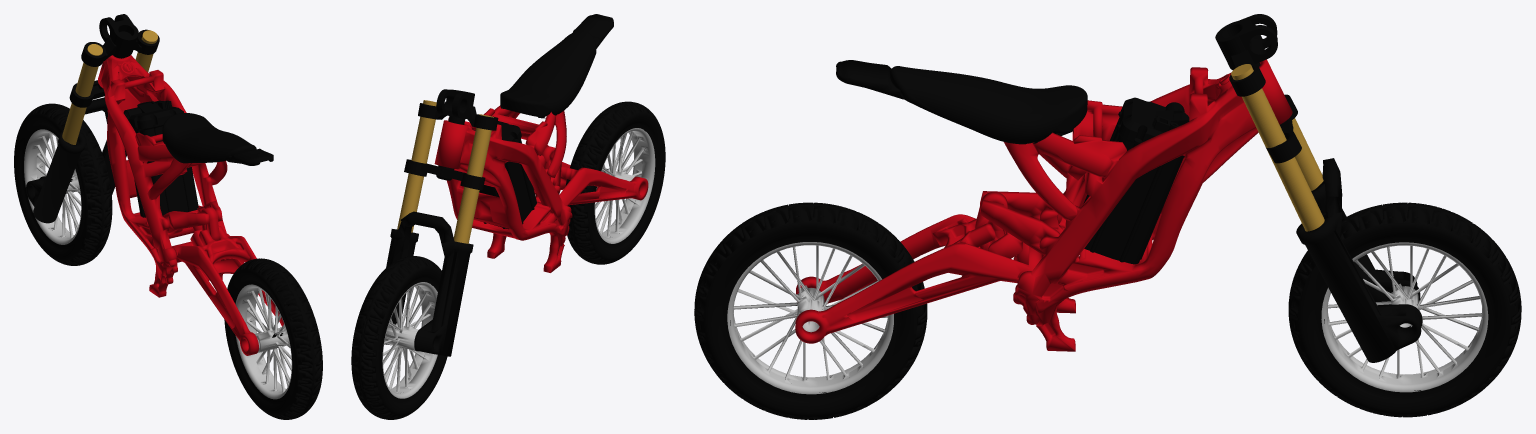
The model's file is TESTBikeBuilder.glb.
3 renders of one model, left to right at view 1: azimuth 30°, elevation 25°; view 2: azimuth 150°, elevation 25°; view 3: azimuth 270°, elevation 25°, orthographic. The views are drawn at different scales.
Visible parts, largest first — view 1: Surron Frame, Rear Tire, Front Tire, Rear Rim, Seat, Fork Lower, Battery, Front Rim, Stem Lock, Right Fork, Fork Steerer Tube, Left Fork; view 2: Surron Frame, Front Tire, Rear Tire, Seat, Fork Lower, Front Rim, Rear Rim, Right Fork, Stem Lock, Battery, Left Fork, Fork Steerer Tube; view 3: Surron Frame, Rear Tire, Front Tire, Seat, Fork Lower, Rear Rim, Front Rim, Battery, Left Fork, Stem Lock, Fork Steerer Tube, Right Fork.
Part boxes in pixels (x1,y1,x2,y2): Surron Frame: [98, 55, 283, 355]; Rear Tire: [224, 258, 322, 419]; Front Tire: [14, 103, 112, 265]; Rear Rim: [235, 284, 292, 399]; Seat: [162, 113, 273, 165]; Fork Lower: [26, 97, 126, 223]; Battery: [123, 100, 198, 217]; Front Rim: [24, 129, 81, 244]; Stem Lock: [81, 14, 159, 66]; Right Fork: [62, 44, 102, 144]; Fork Steerer Tube: [69, 31, 131, 107]; Left Fork: [135, 30, 157, 72]; Surron Frame: [434, 105, 648, 272]; Front Tire: [351, 256, 447, 419]; Rear Tire: [565, 101, 665, 264]; Seat: [500, 14, 613, 118]; Fork Lower: [385, 211, 473, 356]; Front Rim: [382, 282, 437, 398]; Rear Rim: [594, 128, 655, 243]; Right Fork: [453, 114, 493, 243]; Stem Lock: [418, 89, 498, 130]; Battery: [472, 121, 536, 229]; Left Fork: [397, 100, 436, 232]; Fork Steerer Tube: [404, 116, 485, 190]; Surron Frame: [795, 59, 1292, 351]; Rear Tire: [694, 202, 927, 419]; Front Tire: [1288, 202, 1521, 417]; Seat: [836, 60, 1087, 144]; Fork Lower: [1296, 158, 1422, 362]; Rear Rim: [727, 242, 893, 394]; Front Rim: [1321, 242, 1488, 392]; Battery: [1083, 97, 1189, 264]; Left Fork: [1231, 64, 1324, 231]; Stem Lock: [1215, 14, 1277, 96]; Fork Steerer Tube: [1256, 62, 1301, 163]; Right Fork: [1267, 60, 1323, 191].
Bounding box in the file's own units: 28.9 × 98.19 × 185.
